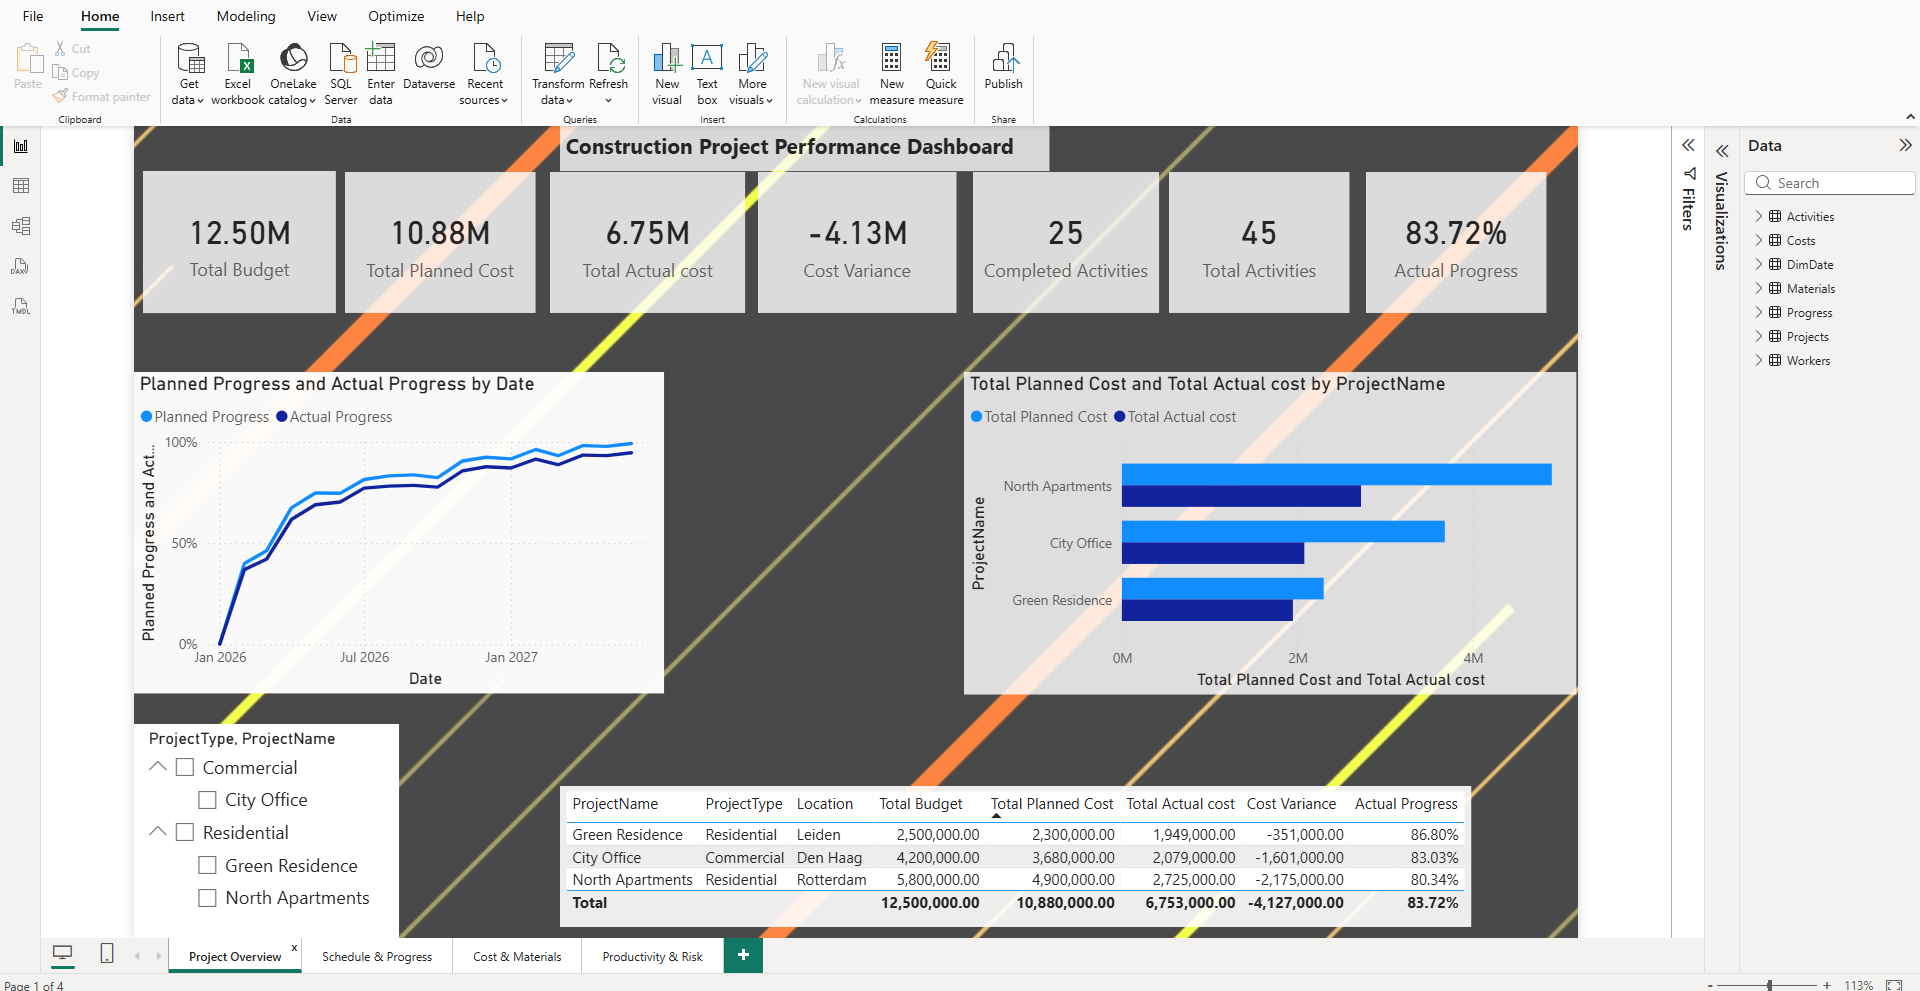

This screenshot's page, from the dashboard's own definition file:
{"tool":"powerbi","page":{"name":"Project Overview","canvas":[1280,720],"ordinal":0},"visuals":[{"type":"textbox","box":[378,0,433.9,40],"z":0},{"type":"lineChart","fields":{"Y":["Progress.Planned Progress","Progress.Actual Progress"],"Category":["DimDate.Date"]},"box":[0,217.9,470.2,284.9],"z":1000},{"type":"clusteredBarChart","fields":{"Category":["Projects.ProjectName"],"Y":["Activities.Total Planned Cost","Activities.Total Actual cost"]},"box":[736.2,218.3,543,285.5],"z":2000},{"type":"tableEx","fields":{"Values":["Projects.ProjectName","Projects.ProjectType","Projects.Location","Projects.Total Budget","Activities.Total Planned Cost","Activities.Total Actual cost","Activities.Cost Variance","Progress.Actual Progress"]},"box":[377.5,585,807.5,125],"z":3000},{"type":"card","fields":{"Values":["Projects.Total Budget"]},"box":[8.4,40,171.3,125.7],"z":4000},{"type":"card","fields":{"Values":["Activities.Total Planned Cost"]},"box":[187.1,41,168.5,124.8],"z":5000},{"type":"card","fields":{"Values":["Activities.Total Actual cost"]},"box":[368.7,41,173.2,124.8],"z":6000},{"type":"card","fields":{"Values":["Activities.Cost Variance"]},"box":[553,41,176,124.8],"z":7000},{"type":"card","fields":{"Values":["Activities.Completed Activities"]},"box":[743.9,41,164.8,124.8],"z":8000},{"type":"card","fields":{"Values":["Activities.Total Activities"]},"box":[918,41,160.1,124.8],"z":9000},{"type":"card","fields":{"Values":["Progress.Actual Progress"]},"box":[1092.1,41,160.1,124.8],"z":10000},{"type":"slicer","fields":{"Values":["Projects.ProjectType","Projects.ProjectName"]},"box":[0,530,235,190],"z":10002}]}

Visuals, with their boxes on the page's 1280x720 design canvas (x1, y1, x2, y2). These are canvas units, not pixel positions in the 1920x991 screenshot, which may show the page scaled, cropped or inside an application window:
textbox: bbox=(378, 0, 812, 40)
lineChart - Progress.Planned Progress x Progress.Actual Progress: bbox=(0, 218, 470, 503)
clusteredBarChart - Projects.ProjectName x Activities.Total Planned Cost: bbox=(736, 218, 1279, 504)
tableEx - Projects.ProjectName x Projects.ProjectType: bbox=(378, 585, 1185, 710)
card - Projects.Total Budget: bbox=(8, 40, 180, 166)
card - Activities.Total Planned Cost: bbox=(187, 41, 356, 166)
card - Activities.Total Actual cost: bbox=(369, 41, 542, 166)
card - Activities.Cost Variance: bbox=(553, 41, 729, 166)
card - Activities.Completed Activities: bbox=(744, 41, 909, 166)
card - Activities.Total Activities: bbox=(918, 41, 1078, 166)
card - Progress.Actual Progress: bbox=(1092, 41, 1252, 166)
slicer - Projects.ProjectType x Projects.ProjectName: bbox=(0, 530, 235, 720)
